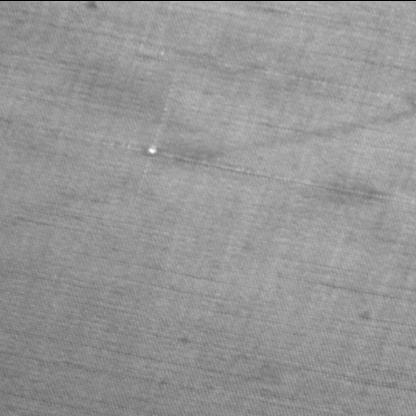hole: (144, 144, 160, 154)
